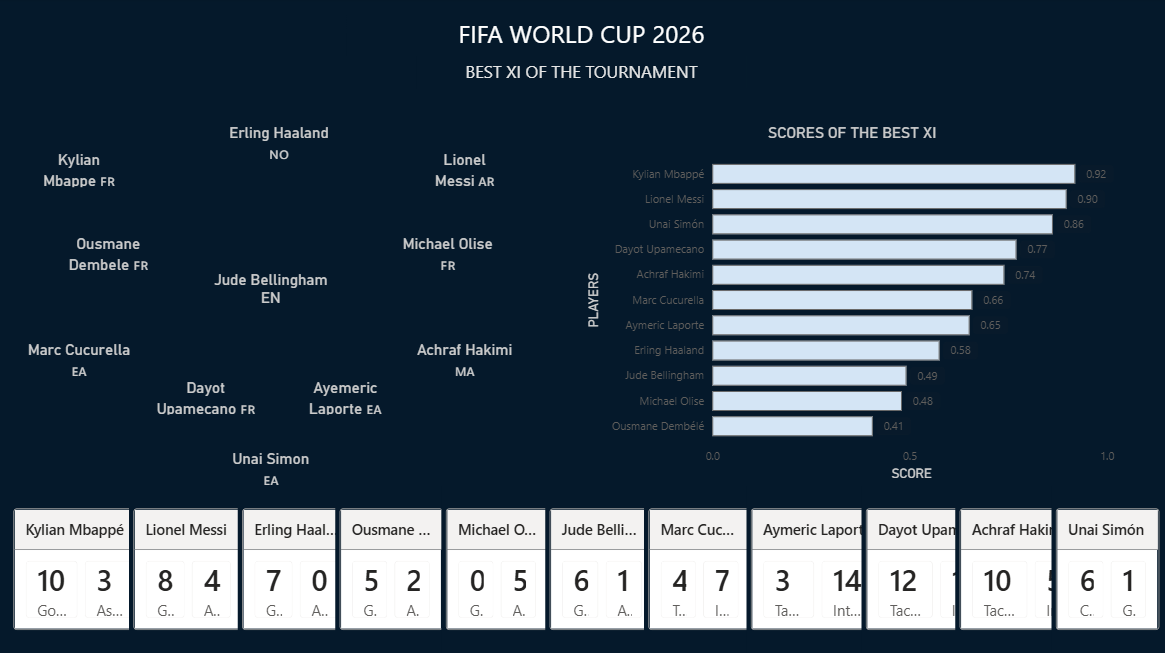

This screenshot's page, from the dashboard's own definition file:
{"tool":"powerbi","page":{"name":"Page 1","canvas":[1280,720],"ordinal":0},"visuals":[{"type":"textbox","box":[381.5,16.5,516,48],"z":0},{"type":"textbox","box":[458.3,64.5,362.3,35.7],"z":1000},{"type":"actionButton","title":"Kylian Mbappe 🇫🇷","box":[32.9,168.8,109.8,39.8],"z":2000},{"type":"actionButton","title":"Lionel Messi 🇦🇷","box":[461.1,168.8,100.2,39.8],"z":3000},{"type":"actionButton","title":"Erling Haaland 🇳🇴","box":[245.6,138.6,123.5,39.8],"z":4000},{"type":"actionButton","title":"Ousmane Dembele 🇫🇷","box":[42.5,260.7,155.1,39.8],"z":5000},{"type":"actionButton","title":"Jude Bellingham EN","box":[225,300.5,146.8,39.8],"z":6000},{"type":"actionButton","title":"Michael Olise 🇫🇷","box":[433.6,260.7,118,39.8],"z":7000},{"type":"actionButton","title":"Marc Cucurella 🇪🇦","box":[24.7,377.4,126.2,39.8],"z":8000},{"type":"actionButton","title":"Achraf Hakimi 🇲🇦","box":[447.3,377.4,127.6,39.8],"z":9000},{"type":"actionButton","title":"Dayot Upamecano 🇫🇷","box":[156.4,418.5,141.3,39.8],"z":10000},{"type":"actionButton","title":"Ayemeric Laporte 🇪🇦","box":[307.4,418.5,145.5,39.8],"z":11000},{"type":"actionButton","title":"Unai Simon 🇪🇦","box":[249.7,496.7,97.4,39.8],"z":12000},{"type":"clusteredBarChart","title":"SCORES OF THE BEST XI","fields":{"Category":["DreamXI.Player"],"Y":["Sum(DreamXI.Score)"]},"box":[639.5,138.6,594.2,397.9],"z":13000},{"type":"cardVisual","fields":{"Rows":["DreamXI.Player"],"Data":["Sum(DreamXI.Goals)","Sum(DreamXI.Assists)"]},"box":[11,536.5,159.2,183.9],"z":14000},{"type":"cardVisual","fields":{"Rows":["DreamXI.Player"],"Data":["Sum(DreamXI.Goals)","Sum(DreamXI.Assists)"]},"box":[142.7,536.5,130.4,183.9],"z":15000},{"type":"cardVisual","fields":{"Rows":["DreamXI.Player"],"Data":["Sum(DreamXI.Goals)","Sum(DreamXI.Assists)"]},"box":[262.1,536.5,129,183.9],"z":16000},{"type":"cardVisual","fields":{"Rows":["DreamXI.Player"],"Data":["Sum(DreamXI.Goals)","Sum(DreamXI.Assists)"]},"box":[369.1,536.5,123.5,183.9],"z":17000},{"type":"cardVisual","fields":{"Rows":["DreamXI.Player"],"Data":["Sum(DreamXI.Goals)","Sum(DreamXI.Assists)"]},"box":[485.8,536.5,123.5,183.9],"z":18000},{"type":"cardVisual","fields":{"Rows":["DreamXI.Player"],"Data":["Sum(DreamXI.Goals)","Sum(DreamXI.Assists)"]},"box":[599.7,536.5,124.9,183.9],"z":19000},{"type":"cardVisual","fields":{"Rows":["DreamXI.Player"],"Data":["Sum(DreamXI.Tackles Won)","Sum(DreamXI.Interceptions)"]},"box":[708.1,536.5,122.1,183.9],"z":20000},{"type":"cardVisual","fields":{"Rows":["DreamXI.Player"],"Data":["Sum(DreamXI.Tackles Won)","Sum(DreamXI.Interceptions)"]},"box":[820.6,536.5,157.8,183.9],"z":21000},{"type":"cardVisual","fields":{"Rows":["DreamXI.Player"],"Data":["Sum(DreamXI.Tackles Won)","Sum(DreamXI.Interceptions)"]},"box":[946.8,536.5,164.7,183.9],"z":22000},{"type":"cardVisual","fields":{"Rows":["DreamXI.Player"],"Data":["Sum(DreamXI.Tackles Won)","Sum(DreamXI.Interceptions)"]},"box":[1049.7,536.5,167.4,183.9],"z":23000},{"type":"cardVisual","fields":{"Rows":["Goalkeepers.Player"],"Data":["Sum(Goalkeepers.Clean Sheets)","Sum(Goalkeepers.Goals Against)"]},"box":[1155.4,536.5,123.5,183.9],"z":24000}]}

Visuals, with their boxes in screenshot pixels (x1, y1, x2, y2), scaled from the page's 1280x720 canvas onto the 1165x653 screenshot:
textbox: locate(347, 15, 817, 58)
textbox: locate(417, 58, 747, 91)
"Kylian Mbappe 🇫🇷" actionButton: locate(30, 153, 130, 189)
"Lionel Messi 🇦🇷" actionButton: locate(420, 153, 511, 189)
"Erling Haaland 🇳🇴" actionButton: locate(224, 126, 336, 162)
"Ousmane Dembele 🇫🇷" actionButton: locate(39, 236, 180, 273)
"Jude Bellingham EN" actionButton: locate(205, 273, 338, 309)
"Michael Olise 🇫🇷" actionButton: locate(395, 236, 502, 273)
"Marc Cucurella 🇪🇦" actionButton: locate(22, 342, 137, 378)
"Achraf Hakimi 🇲🇦" actionButton: locate(407, 342, 523, 378)
"Dayot Upamecano 🇫🇷" actionButton: locate(142, 380, 271, 416)
"Ayemeric Laporte 🇪🇦" actionButton: locate(280, 380, 412, 416)
"Unai Simon 🇪🇦" actionButton: locate(227, 450, 316, 487)
"SCORES OF THE BEST XI" clusteredBarChart: locate(582, 126, 1123, 487)
cardVisual - DreamXI.Player x Sum(DreamXI.Goals): locate(10, 487, 155, 652)
cardVisual - DreamXI.Player x Sum(DreamXI.Goals): locate(130, 487, 249, 652)
cardVisual - DreamXI.Player x Sum(DreamXI.Goals): locate(239, 487, 356, 652)
cardVisual - DreamXI.Player x Sum(DreamXI.Goals): locate(336, 487, 448, 652)
cardVisual - DreamXI.Player x Sum(DreamXI.Goals): locate(442, 487, 555, 652)
cardVisual - DreamXI.Player x Sum(DreamXI.Goals): locate(546, 487, 659, 652)
cardVisual - DreamXI.Player x Sum(DreamXI.Tackles Won): locate(644, 487, 756, 652)
cardVisual - DreamXI.Player x Sum(DreamXI.Tackles Won): locate(747, 487, 890, 652)
cardVisual - DreamXI.Player x Sum(DreamXI.Tackles Won): locate(862, 487, 1012, 652)
cardVisual - DreamXI.Player x Sum(DreamXI.Tackles Won): locate(955, 487, 1108, 652)
cardVisual - Goalkeepers.Player x Sum(Goalkeepers.Clean Sheets): locate(1052, 487, 1164, 652)
